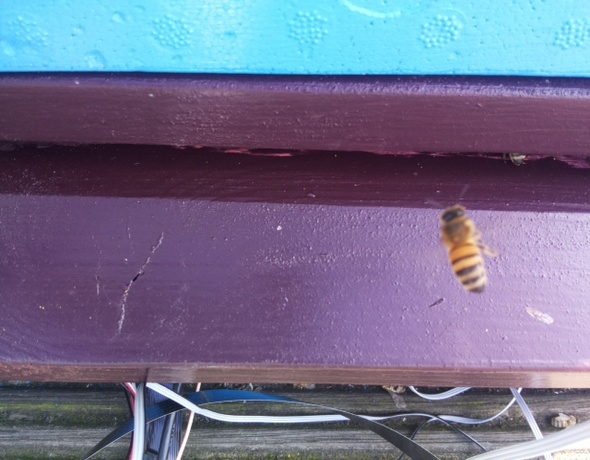no_pollen: (430, 200, 497, 300)
